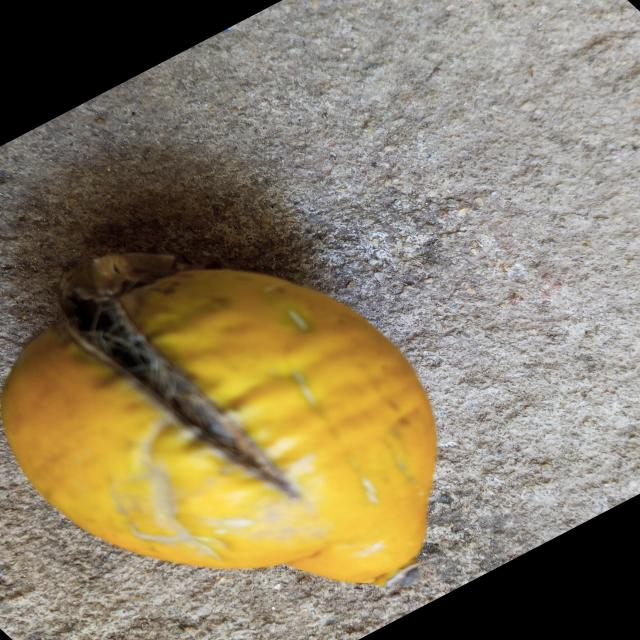damaged: (0, 254, 438, 588)
